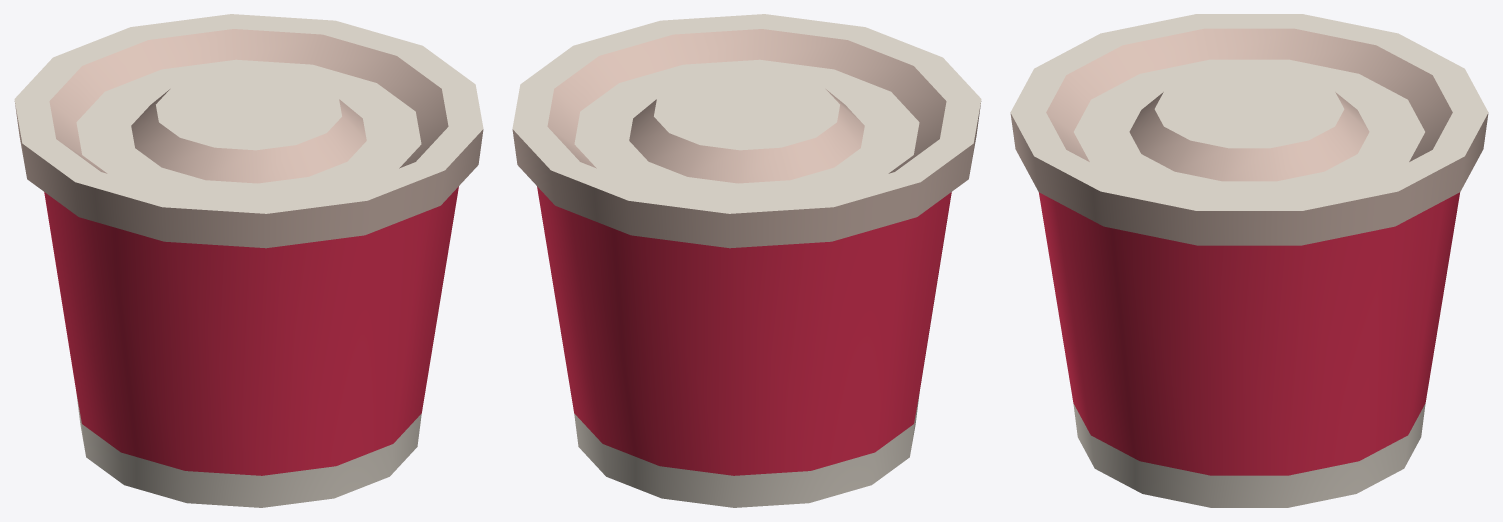
The model's file is Takeout_Bowl_geo.fbx.
The picture shows the model from 3 angles, left to right: view 1: azimuth 30°, elevation 25°; view 2: azimuth 150°, elevation 25°; view 3: azimuth 270°, elevation 25°; orthographic projection.
Visible parts, largest first — view 1: Takeout_Bowl_geo; view 2: Takeout_Bowl_geo; view 3: Takeout_Bowl_geo.
Boxes of the visible parts, box(x1,y1,x2,y2) form: Takeout_Bowl_geo: box(14, 14, 483, 507); Takeout_Bowl_geo: box(512, 14, 981, 507); Takeout_Bowl_geo: box(1010, 14, 1488, 507).
Bounding box in the file's own units: 0.6294 × 0.6456 × 0.4888.
